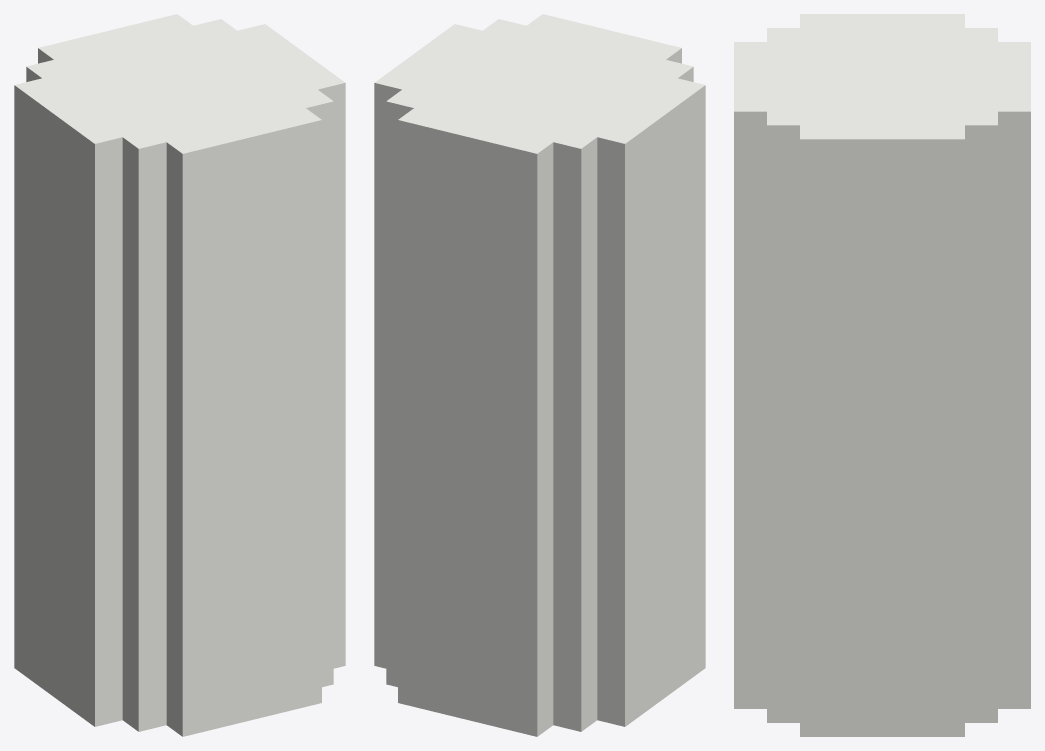
File: banyo-2.obj
3 views of the same model, side by side, from view 1: azimuth 30°, elevation 25°; view 2: azimuth 150°, elevation 25°; view 3: azimuth 270°, elevation 25° (orthographic). The views are drawn at different scales.
Bounding box in the file's own units: 0.9 × 2 × 0.9.
Materials: 1 (1 with a texture image).
